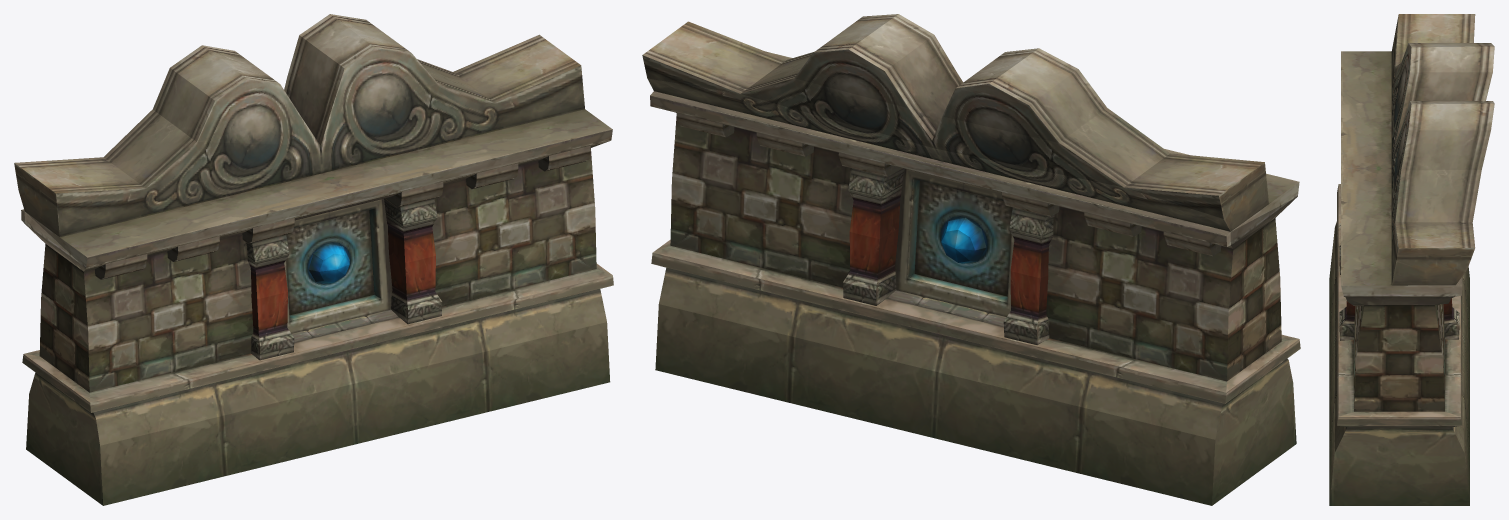
The model's file is jintf_wujian_04.FBX.
3 views of the same model, side by side, from view 1: azimuth 30°, elevation 25°; view 2: azimuth 150°, elevation 25°; view 3: azimuth 270°, elevation 25° (orthographic). The views are drawn at different scales.
Parts seen in each view (by area): view 1: jintf_wujian_04; view 2: jintf_wujian_04; view 3: jintf_wujian_04.
Part boxes in pixels (x1,y1,x2,y2): jintf_wujian_04: (14,14,613,505); jintf_wujian_04: (642,14,1300,505); jintf_wujian_04: (1329,14,1494,505).
Bounding box in the file's own units: 460 × 291 × 137.
